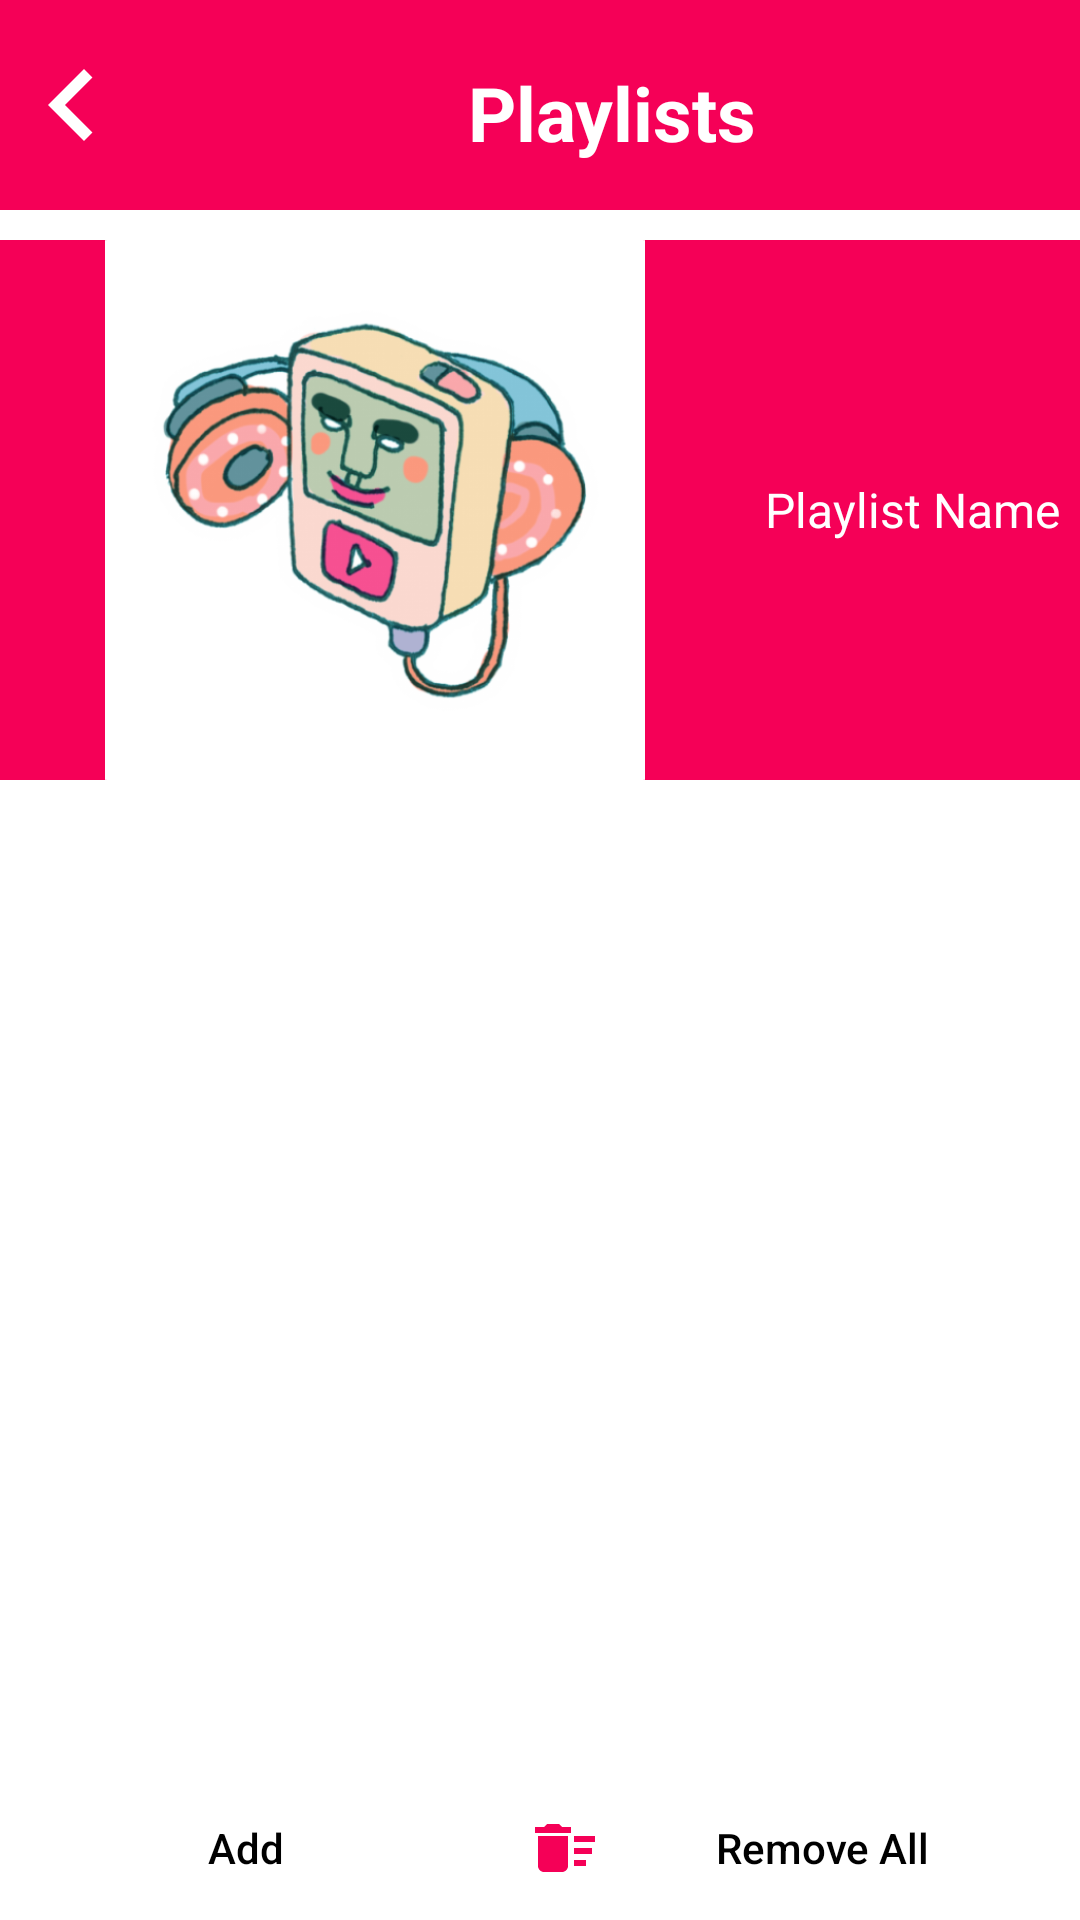

Where icons sit on this 1080w x 1920h app screen, as [x1,y1,x2,y2]:
Back: [48,69,93,141]
